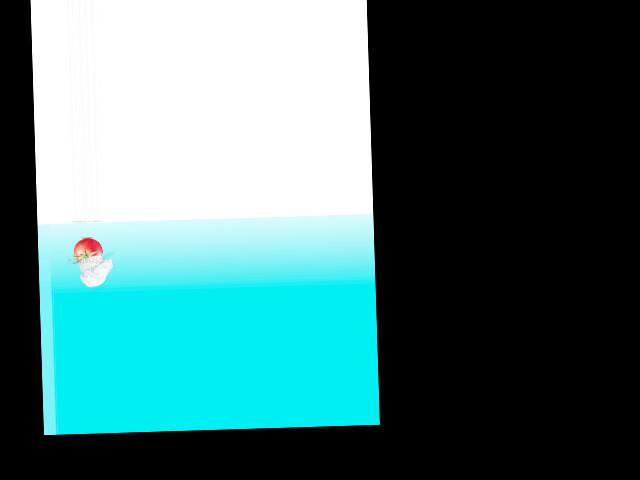tomato: (74, 238, 103, 262)
